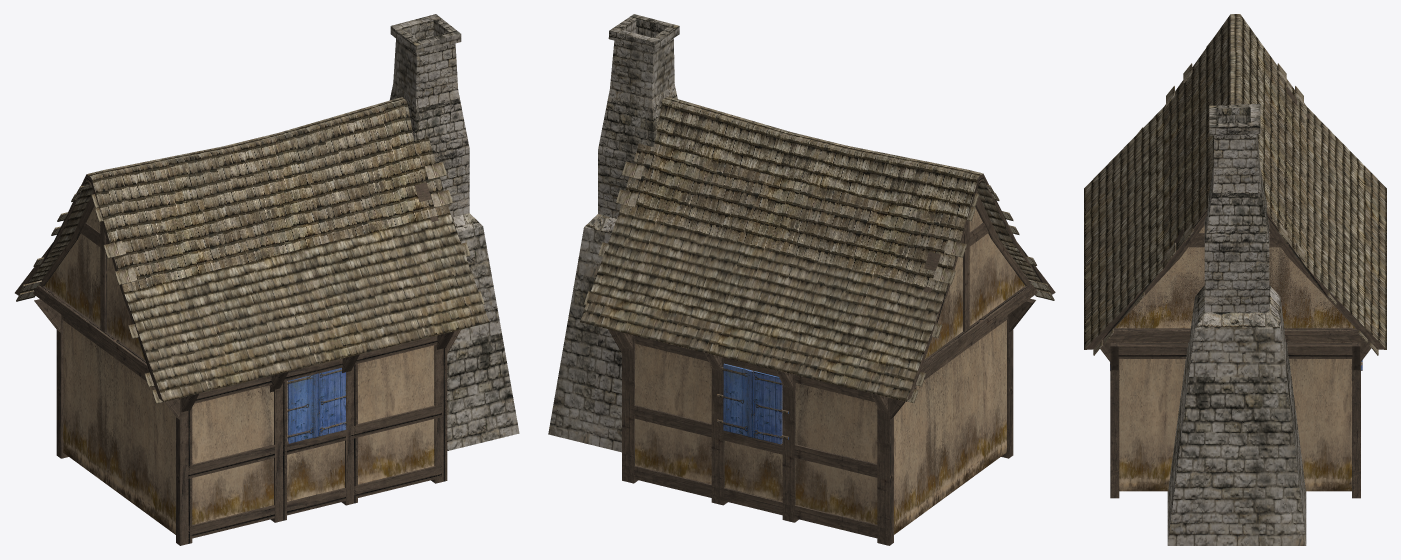
The model's file is f1_roofhouse01.dae.
The picture shows the model from 3 angles, left to right: view 1: azimuth 30°, elevation 25°; view 2: azimuth 150°, elevation 25°; view 3: azimuth 270°, elevation 25°; orthographic projection.
Parts seen in each view (by area): view 1: f1_roofhouse01_Layer1; view 2: f1_roofhouse01_Layer1; view 3: f1_roofhouse01_Layer1.
Part boxes in pixels (left/top/right/bottom): f1_roofhouse01_Layer1: left=15, top=14, right=519, bottom=545; f1_roofhouse01_Layer1: left=548, top=14, right=1055, bottom=545; f1_roofhouse01_Layer1: left=1084, top=14, right=1386, bottom=545.
Size of the model in its own units: 7.68 by 7.22 by 4.91.
